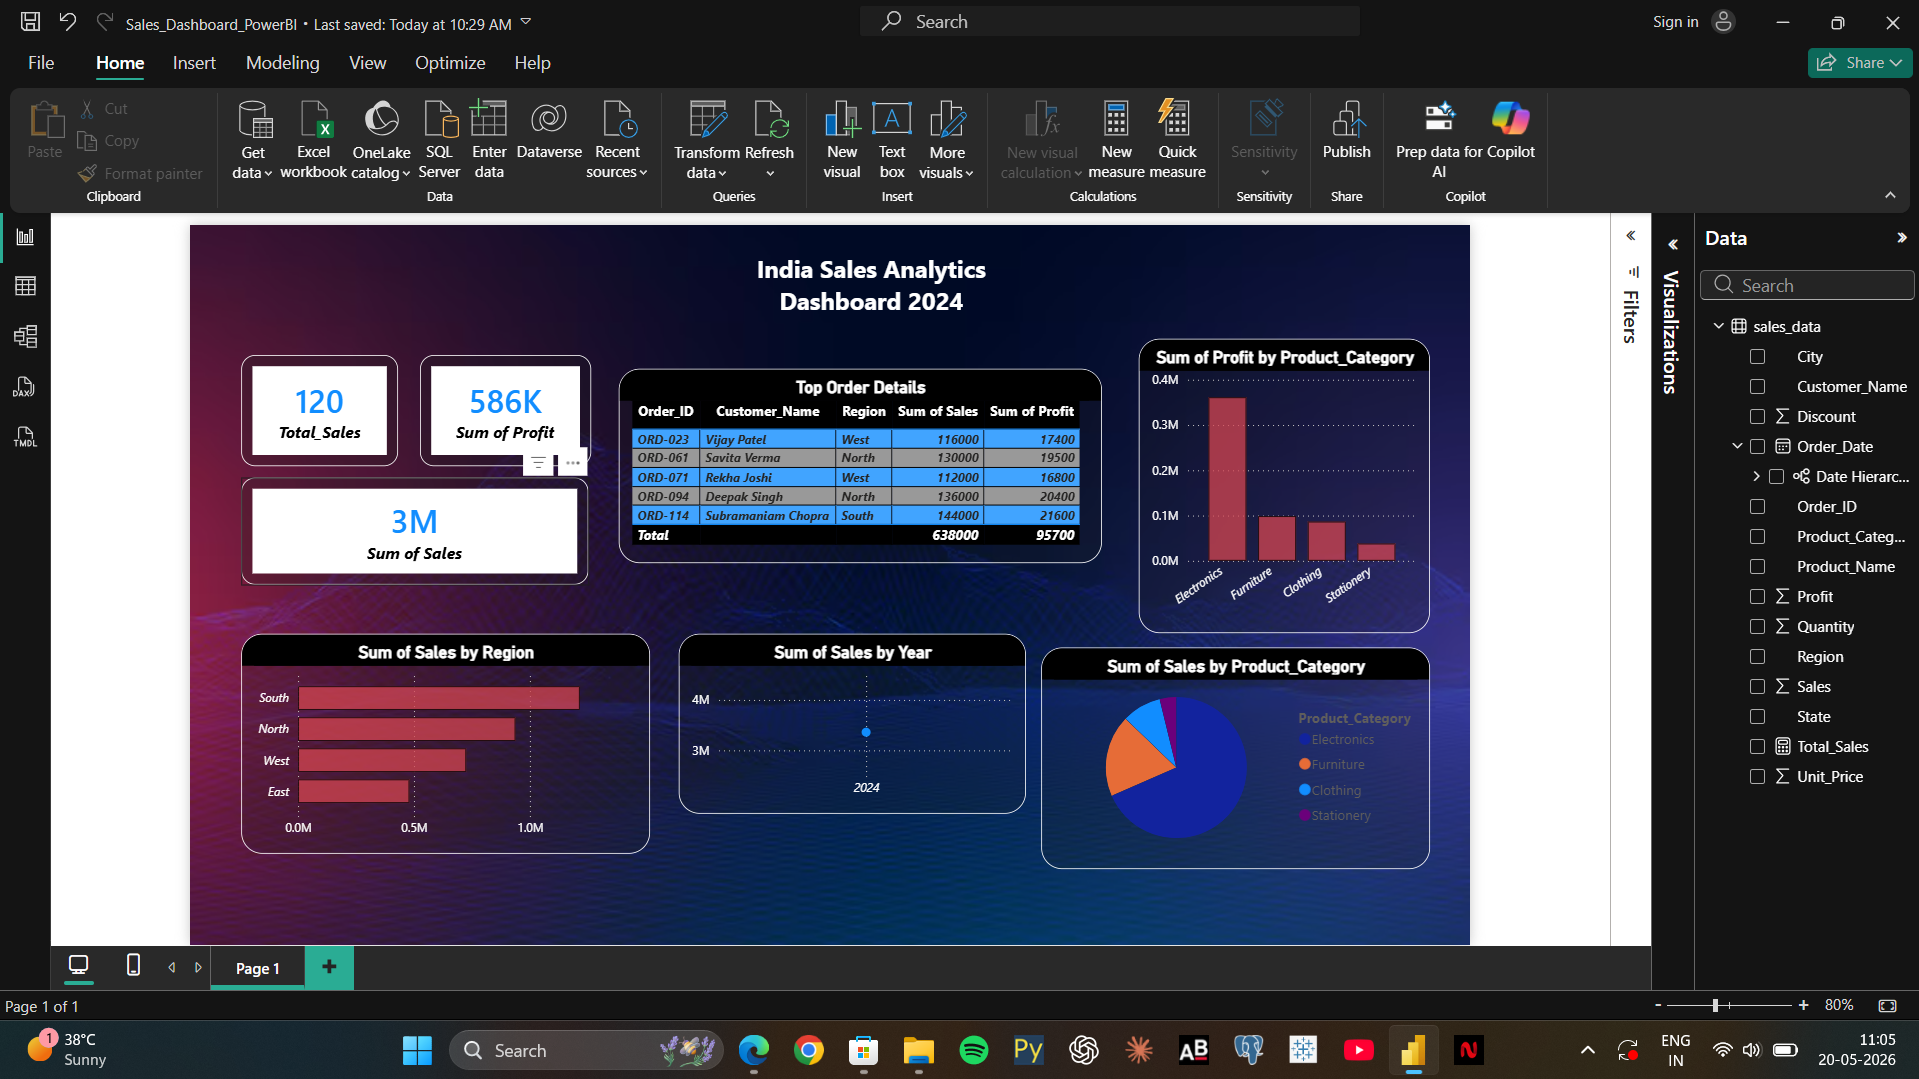

This screenshot's page, from the dashboard's own definition file:
{"tool":"powerbi","page":{"name":"Page 1","canvas":[1280,720],"ordinal":0},"visuals":[{"type":"textbox","box":[525.7,22.9,310,78.6],"z":0},{"type":"cardVisual","fields":{"Data":["Sum(sales_data.Profit)"]},"box":[230,130,171.4,111.4],"z":1000},{"type":"cardVisual","fields":{"Data":["Sum(sales_data.Sales)"]},"box":[51.4,252.9,347.1,107.1],"z":2000},{"type":"cardVisual","fields":{"Data":["sales_data.Measure"]},"box":[51.4,130,157.1,111.4],"z":3000},{"type":"barChart","fields":{"Category":["sales_data.Region"],"Y":["Sum(sales_data.Sales)"]},"box":[51.4,408.6,408.6,220],"z":4000},{"type":"lineChart","fields":{"Category":["sales_data.Order_Date.Variation.Date Hierarchy.Year","sales_data.Order_Date.Variation.Date Hierarchy.Quarter","sales_data.Order_Date.Variation.Date Hierarchy.Month","sales_data.Order_Date.Variation.Date Hierarchy.Day"],"Y":["Sum(sales_data.Sales)"]},"box":[488.6,408.6,347.1,180],"z":5000},{"type":"pieChart","fields":{"Category":["sales_data.Product_Category"],"Y":["Sum(sales_data.Sales)"]},"box":[851.4,422.9,388.6,221.4],"z":6000},{"type":"clusteredColumnChart","fields":{"Category":["sales_data.Product_Category"],"Y":["Sum(sales_data.Profit)"]},"box":[948.6,114.3,291.4,294.3],"z":7000},{"type":"tableEx","title":"Top Order Details","fields":{"Values":["sales_data.Order_ID","sales_data.Customer_Name","sales_data.Region","Sum(sales_data.Sales)","Sum(sales_data.Profit)"]},"box":[428.6,144.3,482.9,194.3],"z":8000}]}

Visuals, with their boxes on the page's 1280x720 design canvas (x1, y1, x2, y2). These are canvas units, not pixel positions in the 1919x1079 screenshot, which may show the page scaled, cropped or inside an application window:
textbox: pyautogui.locateOnScreen(526, 23, 836, 102)
cardVisual - Sum(sales_data.Profit): pyautogui.locateOnScreen(230, 130, 401, 241)
cardVisual - Sum(sales_data.Sales): pyautogui.locateOnScreen(51, 253, 398, 360)
cardVisual - sales_data.Measure: pyautogui.locateOnScreen(51, 130, 208, 241)
barChart - sales_data.Region x Sum(sales_data.Sales): pyautogui.locateOnScreen(51, 409, 460, 629)
lineChart - sales_data.Order_Date.Variation.Date Hierarchy.Year x sales_data.Order_Date.Variation.Date Hierarchy.Quarter: pyautogui.locateOnScreen(489, 409, 836, 589)
pieChart - sales_data.Product_Category x Sum(sales_data.Sales): pyautogui.locateOnScreen(851, 423, 1240, 644)
clusteredColumnChart - sales_data.Product_Category x Sum(sales_data.Profit): pyautogui.locateOnScreen(949, 114, 1240, 409)
"Top Order Details" tableEx: pyautogui.locateOnScreen(429, 144, 912, 339)
